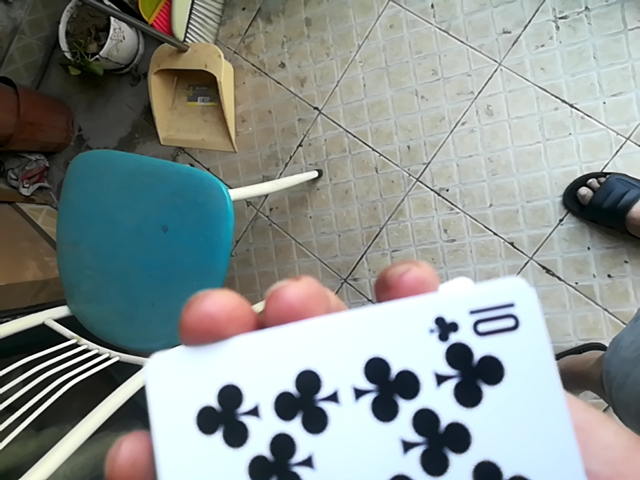mh 10: (105, 266, 607, 480)
